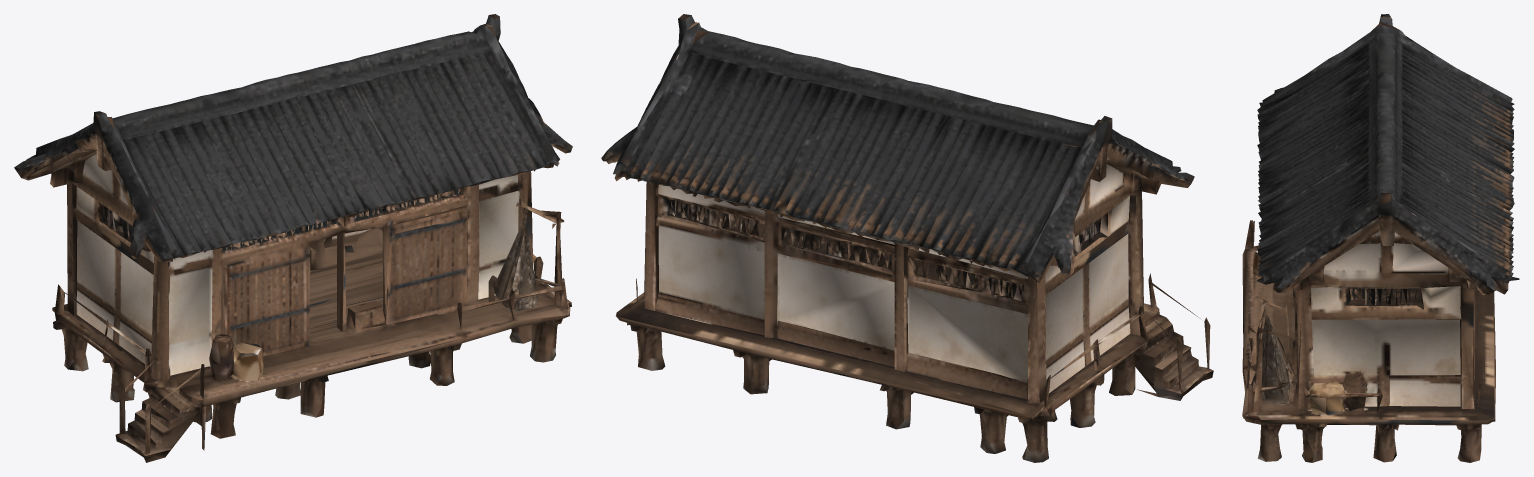
The model's file is 14_Riverside_Storehouse_LOD2.fbx.
3 renders of one model, left to right at view 1: azimuth 30°, elevation 25°; view 2: azimuth 150°, elevation 25°; view 3: azimuth 270°, elevation 25°, orthographic. The views are drawn at different scales.
Parts seen in each view (by area): view 1: 14_Riverside_Storehouse_L2; view 2: 14_Riverside_Storehouse_L2; view 3: 14_Riverside_Storehouse_L2.
Boxes of the visible parts, <box> form: 14_Riverside_Storehouse_L2: <box>14,14,572,462</box>; 14_Riverside_Storehouse_L2: <box>601,14,1213,462</box>; 14_Riverside_Storehouse_L2: <box>1242,14,1519,462</box>.
Bounding box in the file's own units: 11.11 × 7 × 6.51.
